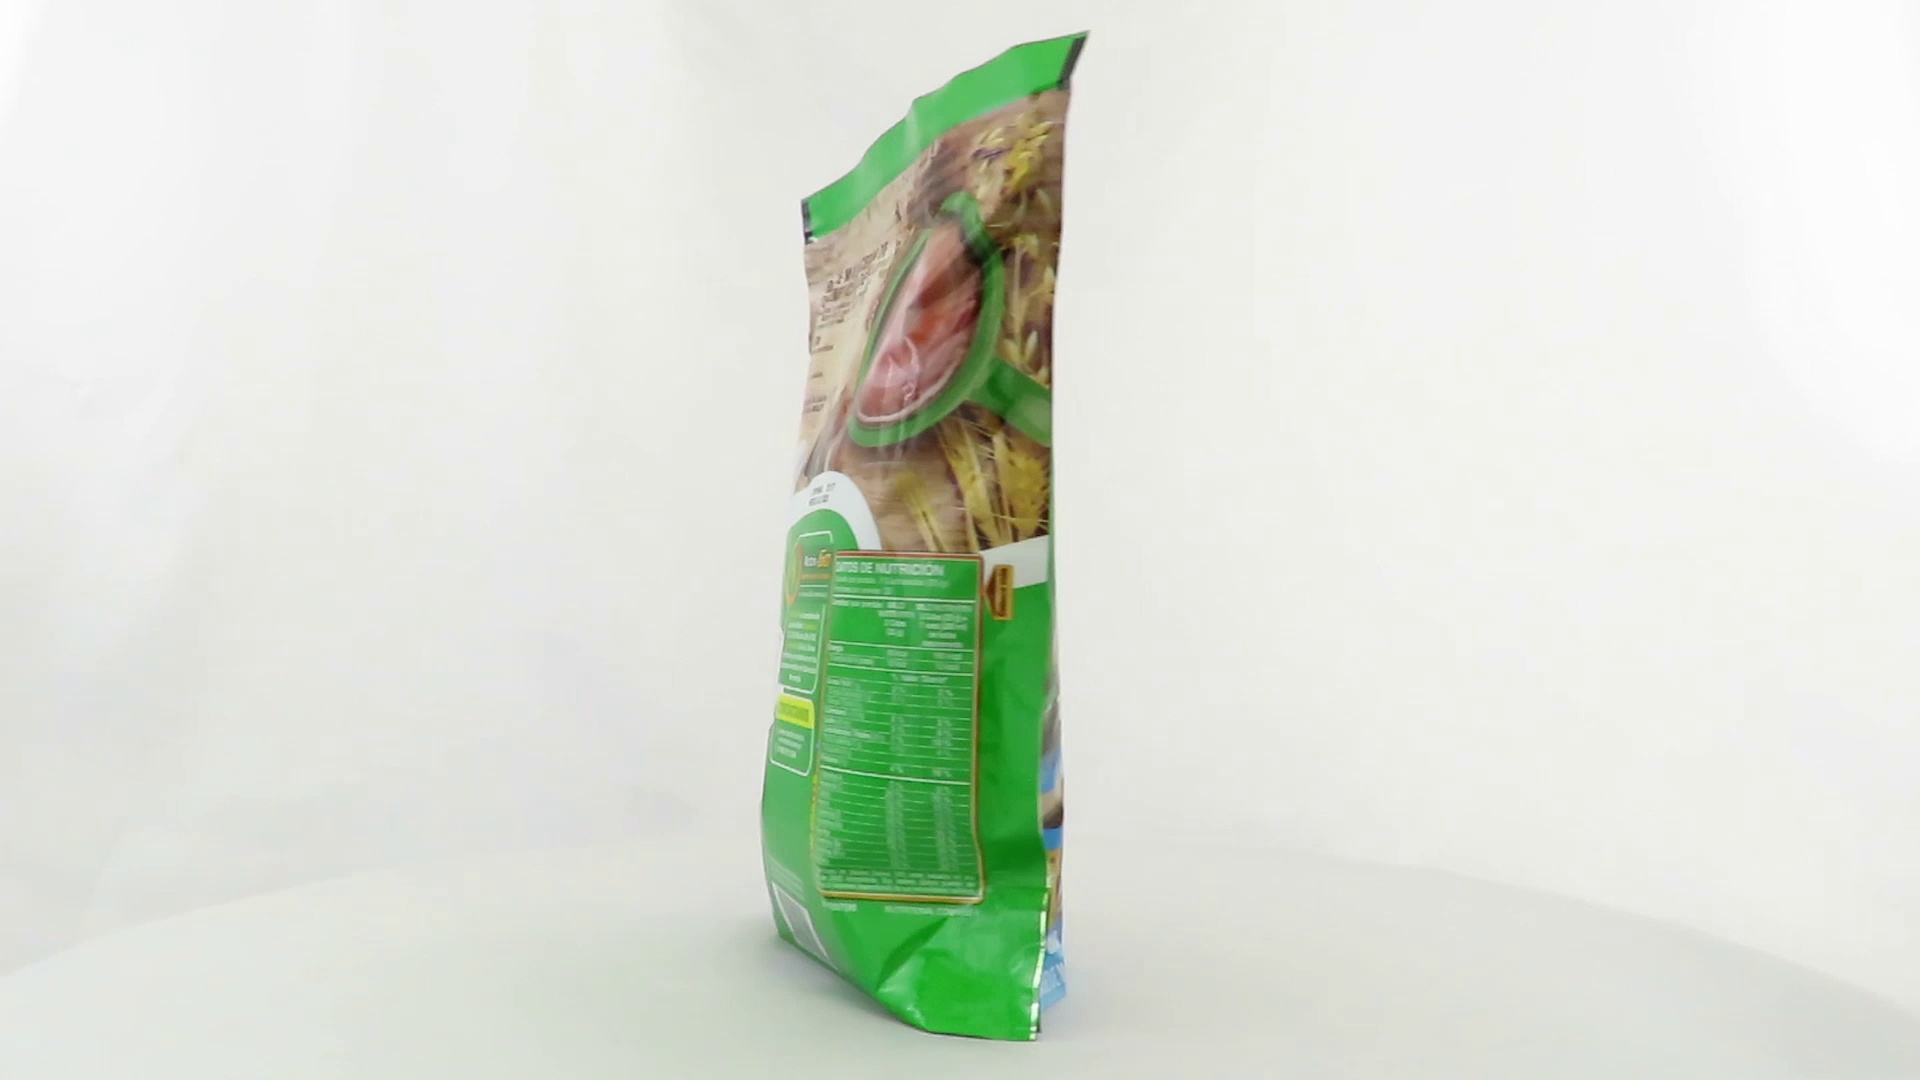COL0170205DYP50000: (756, 24, 1097, 1048)
